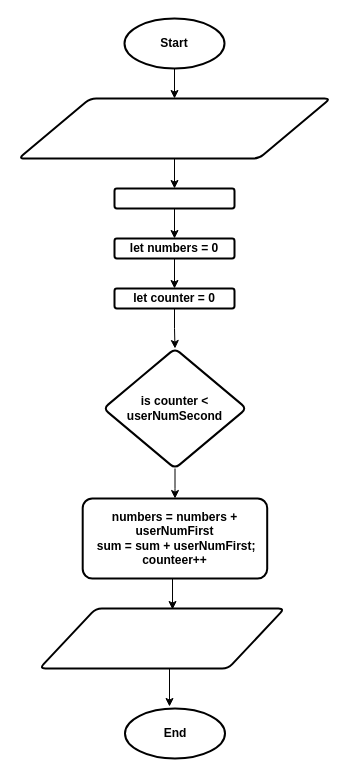
The diagram is 348 pixels wide and 776 high, and some of its shapes have lost their labels. The shapes that lost their labels are listed below. From the top down, each one's box as (x1, y1, x2, y2) in pixels, then its label:
(17, 97, 331, 159): Get userNumFirst and userNumSecond from user
(113, 187, 235, 209): let sum = 0
(38, 607, 285, 669): Display; number + " = " + sum
